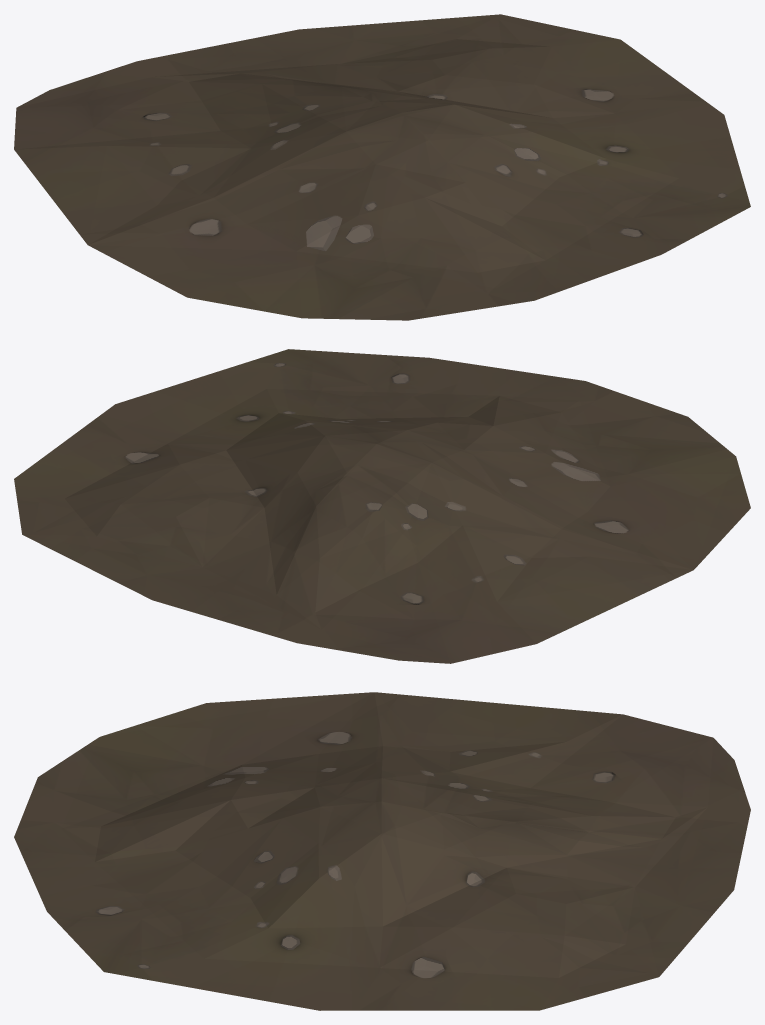
The model's file is synty-terrain-ground-mound-small-02.gltf.
3 views of the same model, one above another, from view 1: azimuth 30°, elevation 25°; view 2: azimuth 150°, elevation 25°; view 3: azimuth 270°, elevation 25° (orthographic). The views are drawn at different scales.
Parts seen in each view (by area): view 1: SM_Terrain_Ground_Mound_Small_02; view 2: SM_Terrain_Ground_Mound_Small_02; view 3: SM_Terrain_Ground_Mound_Small_02.
Part boxes in pixels (x1=…): SM_Terrain_Ground_Mound_Small_02: x1=14, y1=14, x2=750, y2=320; SM_Terrain_Ground_Mound_Small_02: x1=14, y1=349, x2=750, y2=663; SM_Terrain_Ground_Mound_Small_02: x1=14, y1=692, x2=750, y2=1010.
Bounding box in the file's own units: 5.09 × 0.4184 × 4.98.
Materials: 1 (1 with a texture image).
